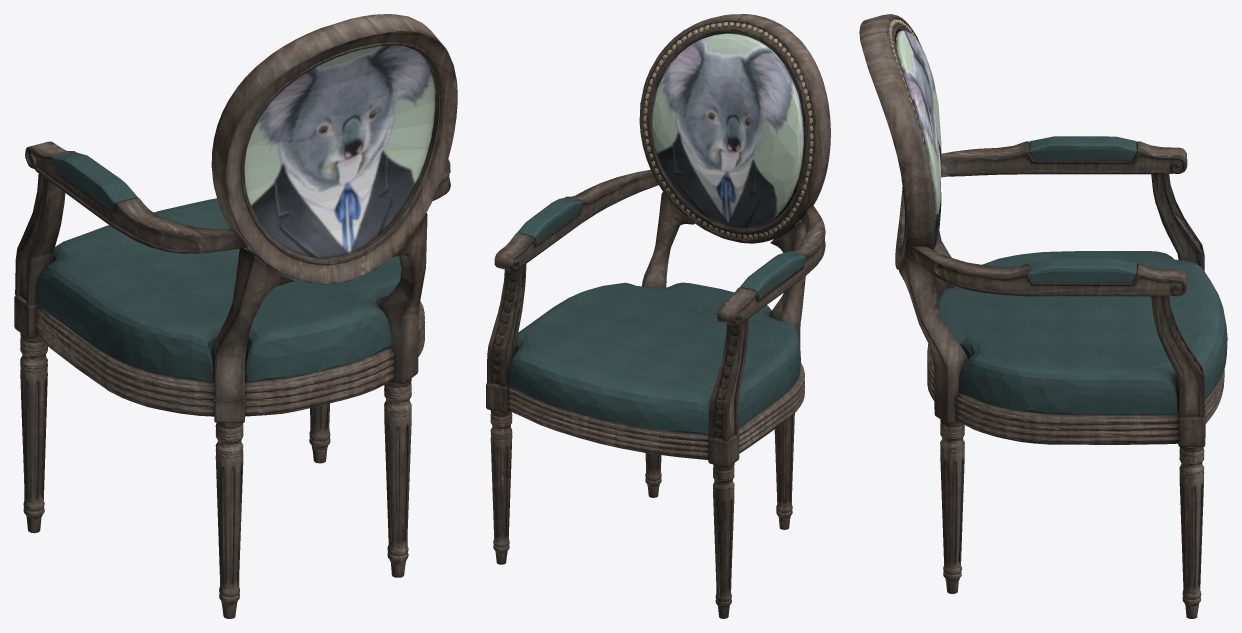
The picture shows the model from 3 angles, left to right: view 1: azimuth 30°, elevation 25°; view 2: azimuth 150°, elevation 25°; view 3: azimuth 270°, elevation 25°; orthographic projection. The views are drawn at different scales.
Visible parts, largest first — view 1: solid_001_wire; view 2: solid_001_wire; view 3: solid_001_wire.
Boxes of the visible parts, x1,y1,x2,y2 form: solid_001_wire: (14, 14, 457, 618); solid_001_wire: (486, 14, 830, 618); solid_001_wire: (859, 14, 1227, 618).
Bounding box in the file's own units: 0.5059 × 0.936 × 0.5898.
Materials: 1 (1 with a texture image).
